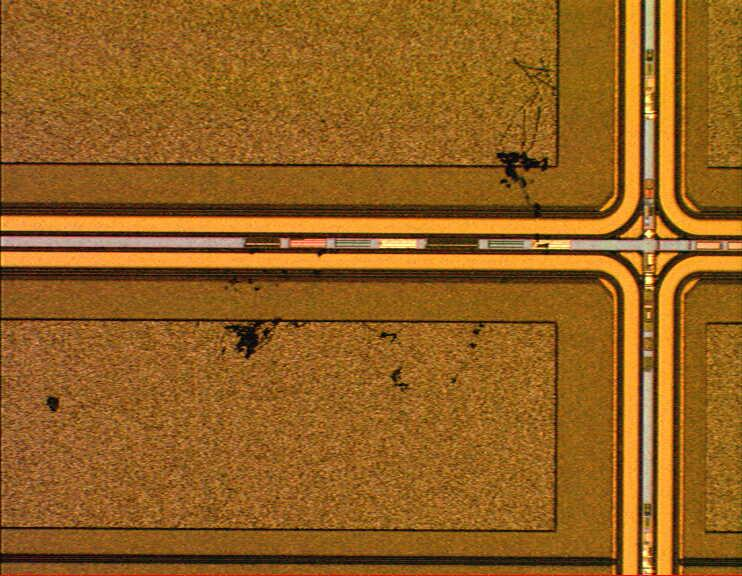SCRATCH: (41, 47, 564, 416)
